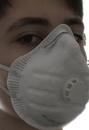with_mask: (1, 2, 89, 130)
